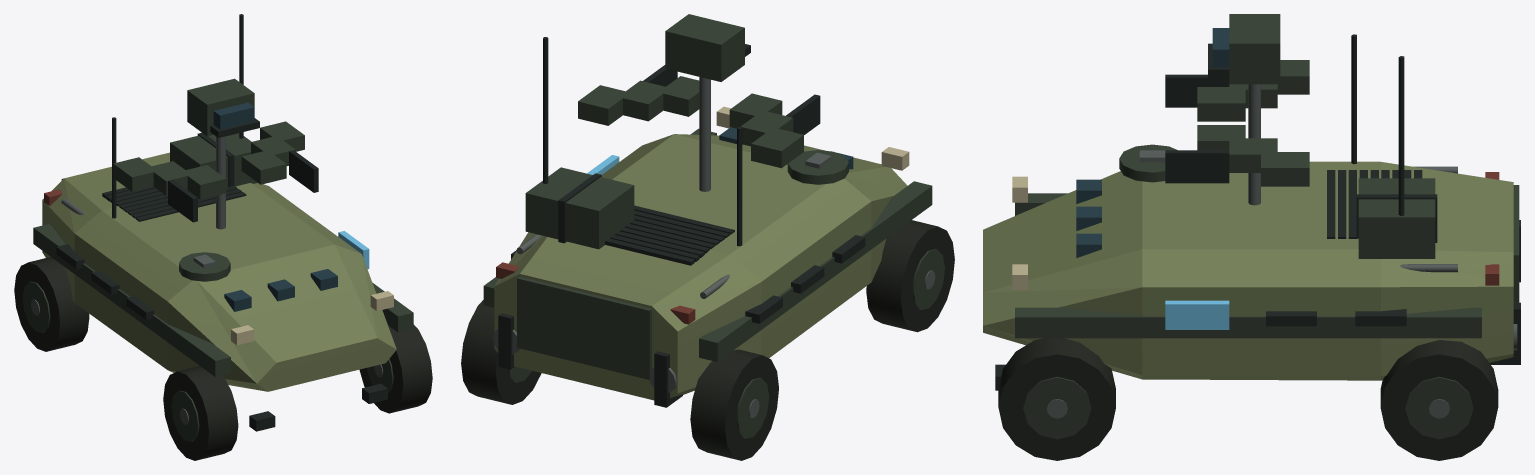
Rendered from reconVehicle.glb.
The picture shows the model from 3 angles, left to right: view 1: azimuth 30°, elevation 25°; view 2: azimuth 150°, elevation 25°; view 3: azimuth 270°, elevation 25°; orthographic projection. The views are drawn at different scales.
Visible parts, largest first — view 1: armor, equipment (×2), glass (×2); view 2: equipment (×2), armor; view 3: armor, equipment (×2), glass (×2), marking.
Boxes of the visible parts, x1,y1,x2,y2 form: armor: (42, 152, 396, 391); equipment (×2): (14, 14, 432, 460); glass (×2): (213, 102, 337, 311); equipment (×2): (461, 14, 954, 460); armor: (494, 134, 907, 400); armor: (983, 161, 1513, 380); equipment (×2): (995, 14, 1520, 460); glass (×2): (1076, 28, 1229, 257); marking: (1165, 300, 1229, 329).
Size of the model in its own units: 2.64 by 3.3 by 4.21.
